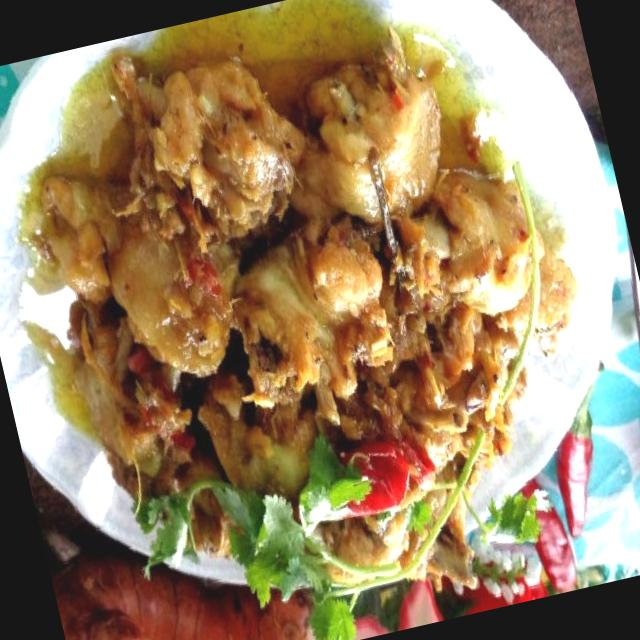ga kho: (23, 30, 577, 587)
